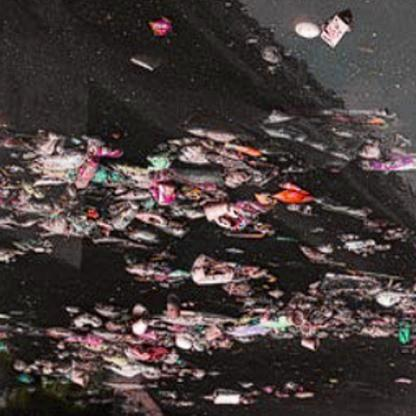Metal: (150, 178, 178, 209), (148, 15, 177, 42)
Plastic: (189, 263, 237, 287), (252, 310, 300, 334), (72, 157, 97, 193), (201, 197, 234, 221), (128, 317, 155, 337)
Trash: (318, 8, 355, 53), (365, 144, 415, 174), (272, 188, 310, 208), (292, 20, 317, 44), (398, 324, 412, 346)
